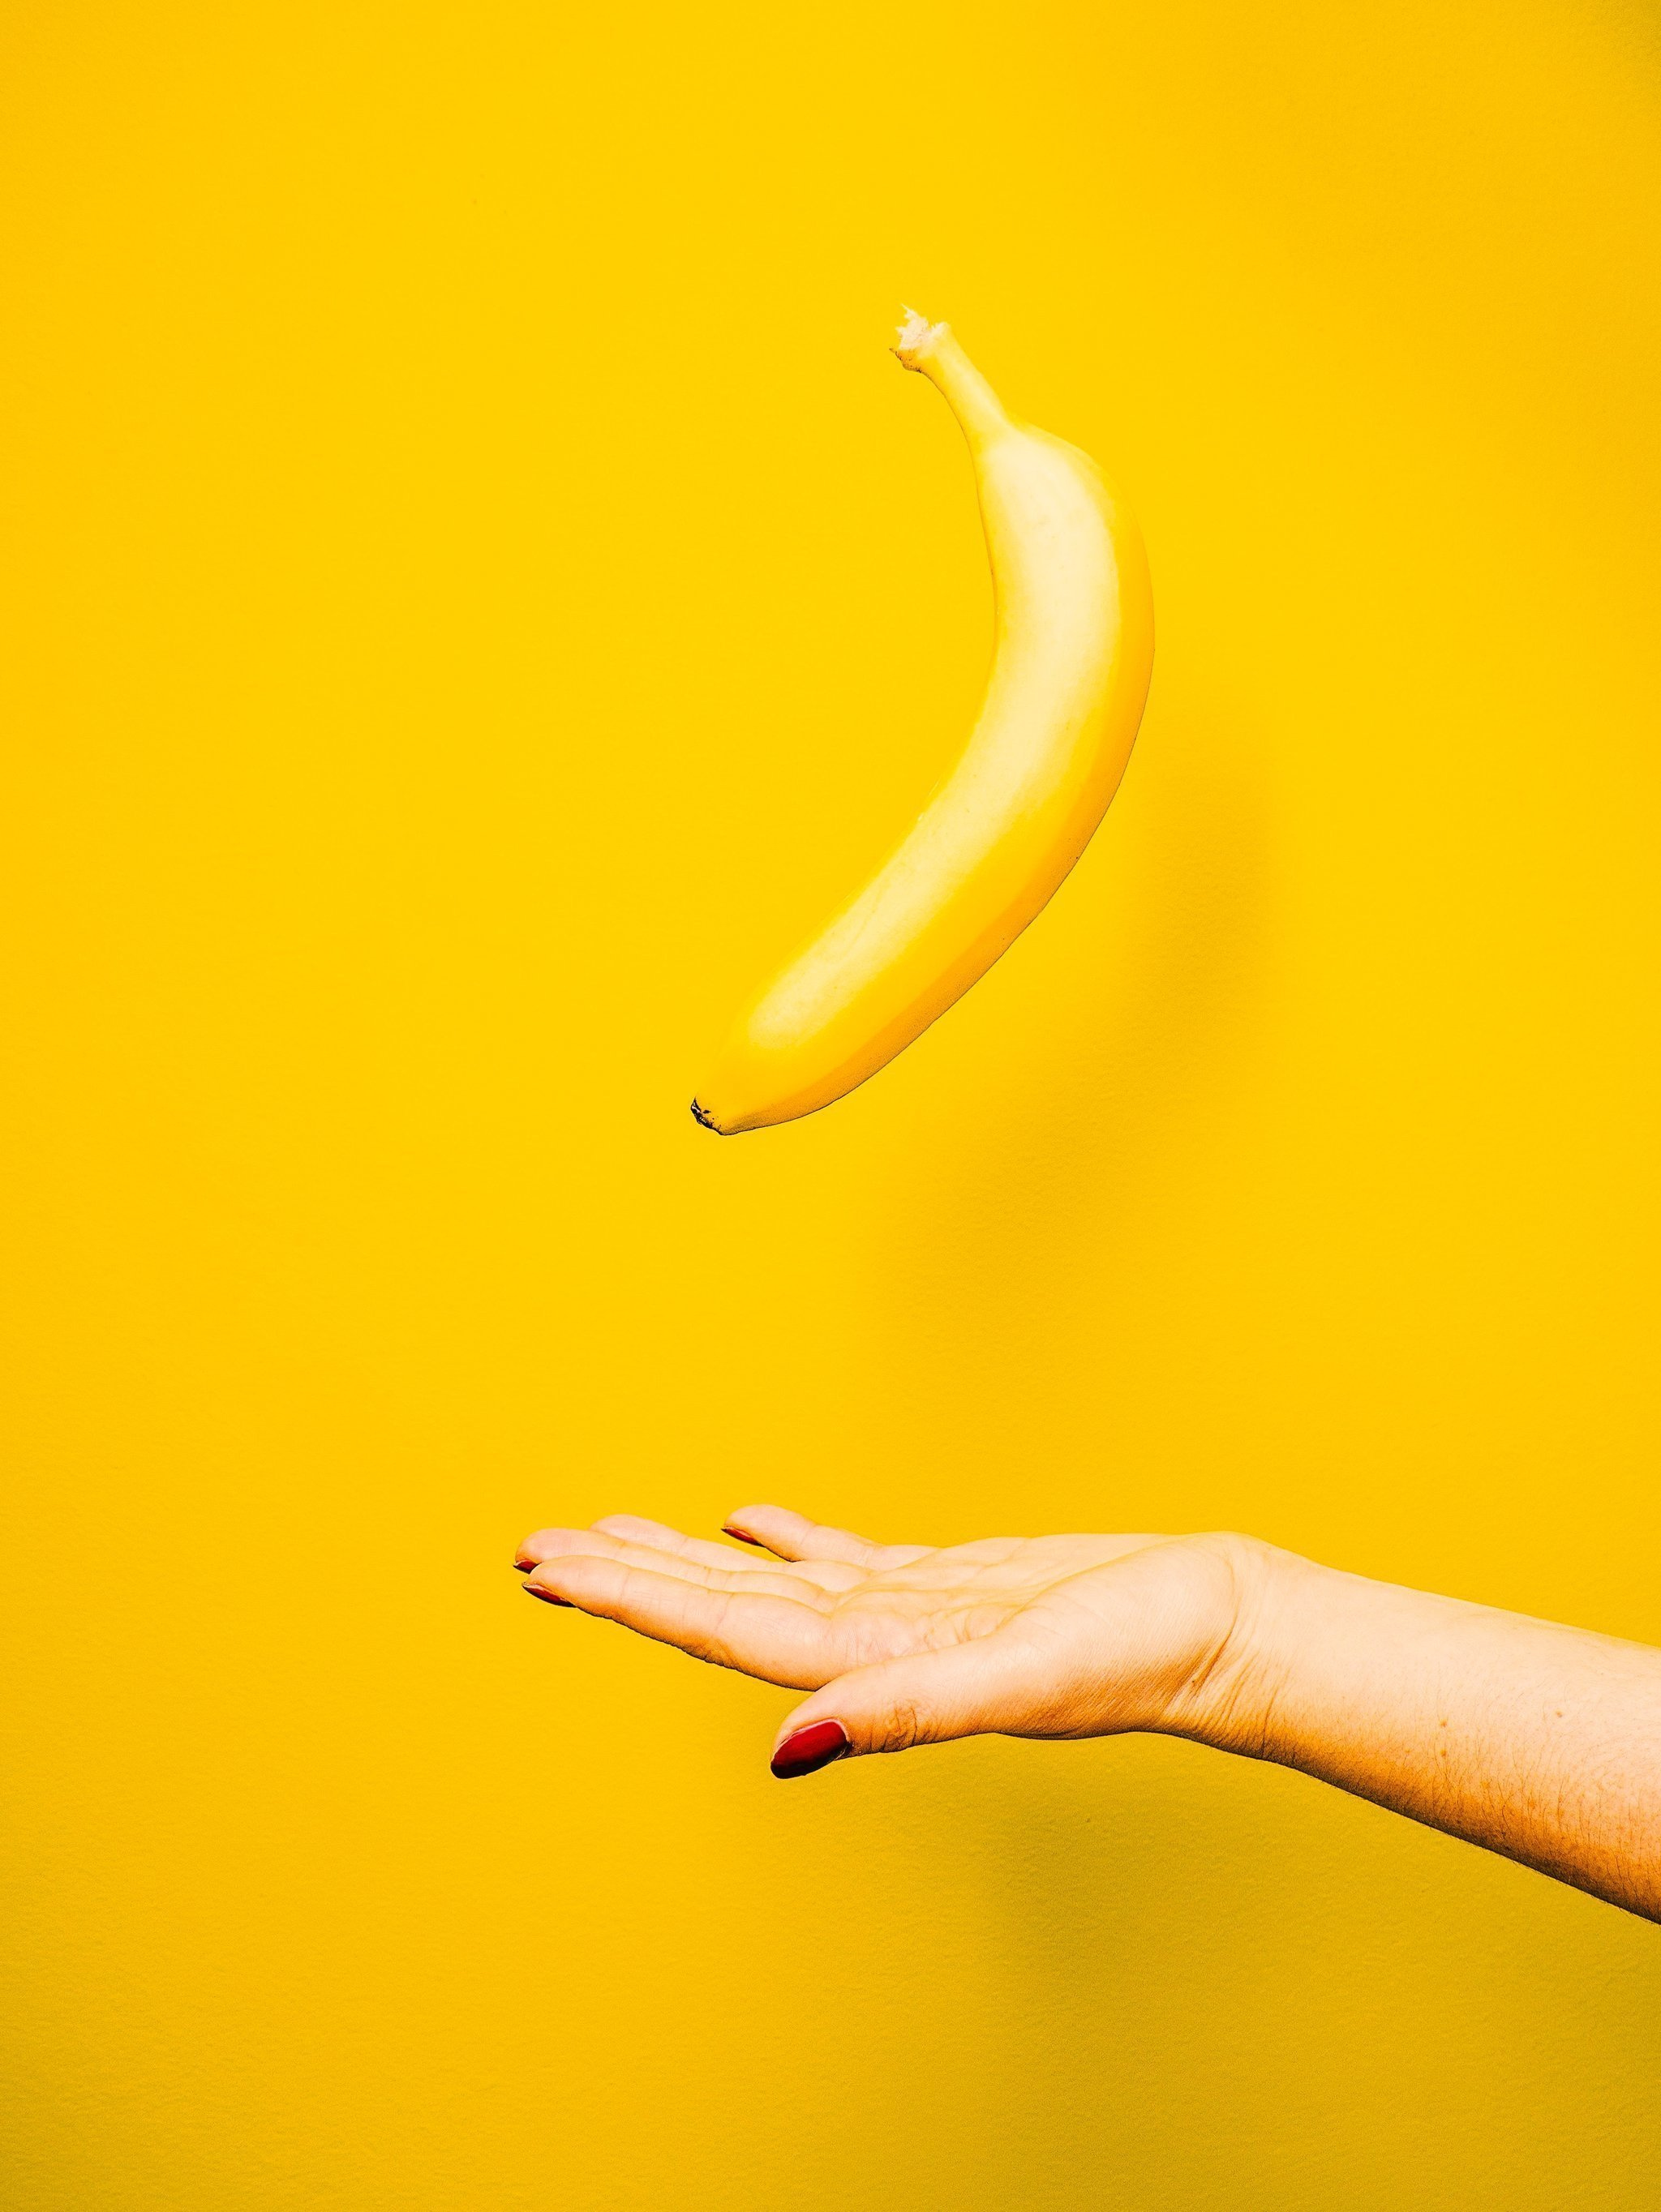banana: (712, 380, 1174, 1164)
